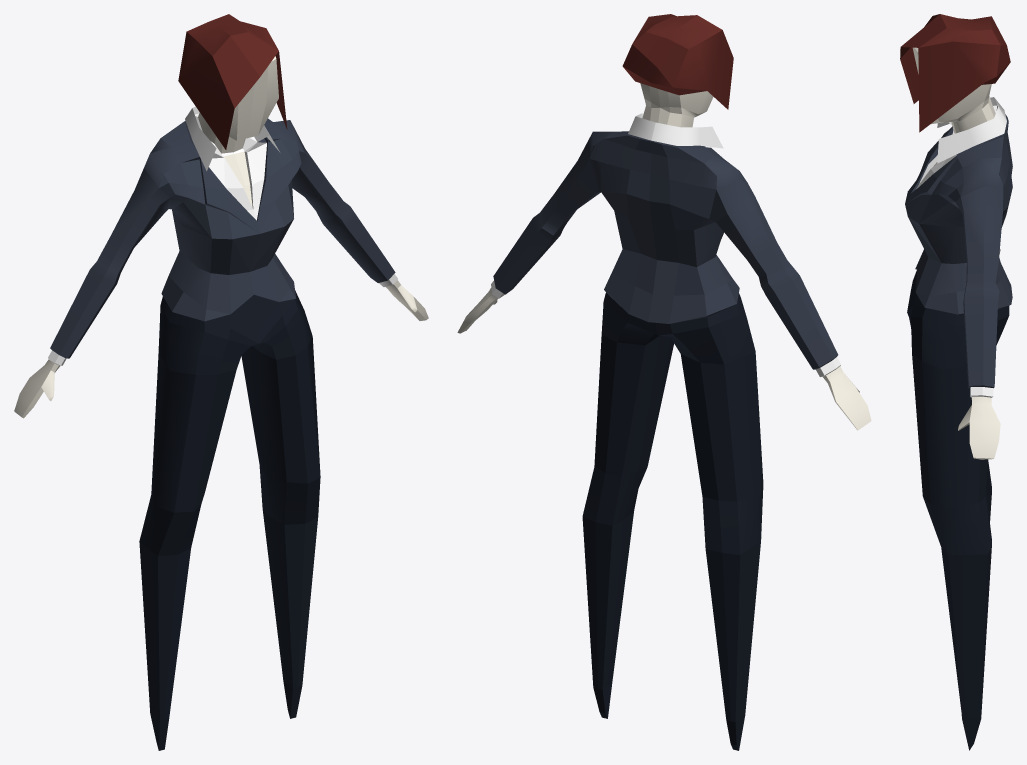
File: nikki.obj
The picture shows the model from 3 angles, left to right: view 1: azimuth 30°, elevation 25°; view 2: azimuth 150°, elevation 25°; view 3: azimuth 270°, elevation 25°; orthographic projection.
Visible parts, largest first — view 1: polySurface4; view 2: polySurface4; view 3: polySurface4.
Part boxes in pixels (<box>): polySurface4: <box>14,14,428,750</box>; polySurface4: <box>457,14,871,750</box>; polySurface4: <box>900,14,1012,750</box>.
Bounding box in the file's own units: 9.9 × 16.56 × 2.42.
Materials: 1 (1 with a texture image).
